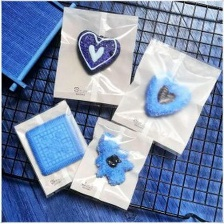snack: (106, 31, 224, 159), (48, 2, 142, 110), (8, 96, 102, 201), (65, 113, 157, 214)
